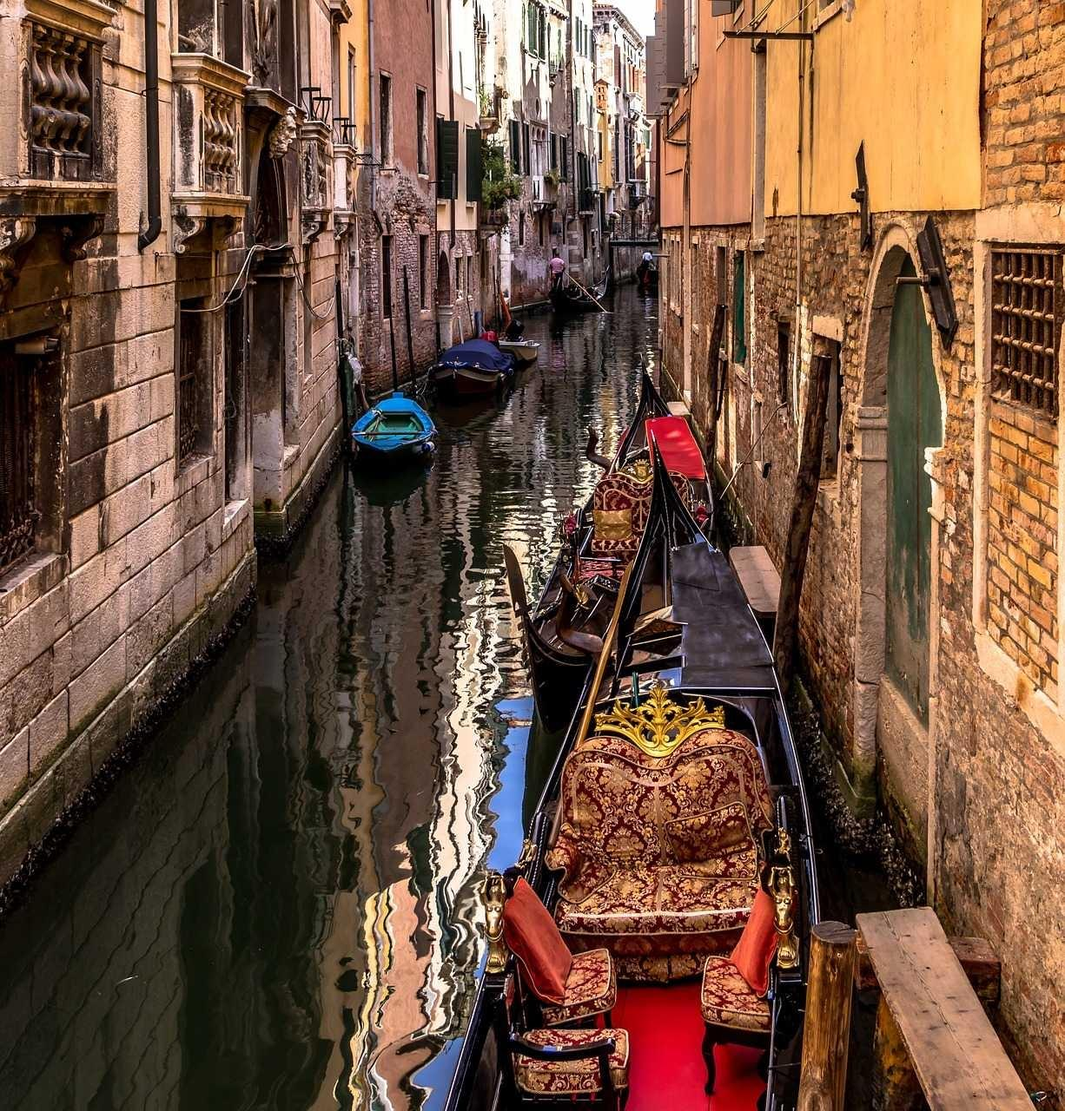kayak: (532, 540, 820, 980), (503, 408, 658, 672), (645, 414, 714, 543), (348, 392, 437, 463), (427, 337, 513, 399), (547, 273, 606, 314), (492, 332, 540, 366)
